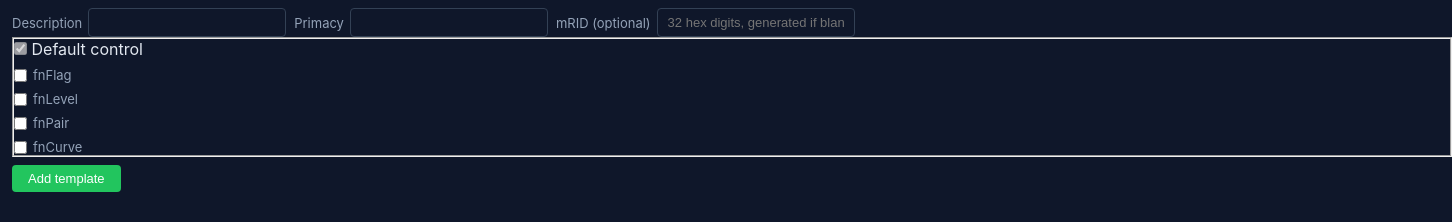
Test: DerProgramForm create › shows the value field of a function only while it is ticked
Click the checkbox with test id "control-fn-fnLevel". click: (20, 99)
box: [14,92,27,106]
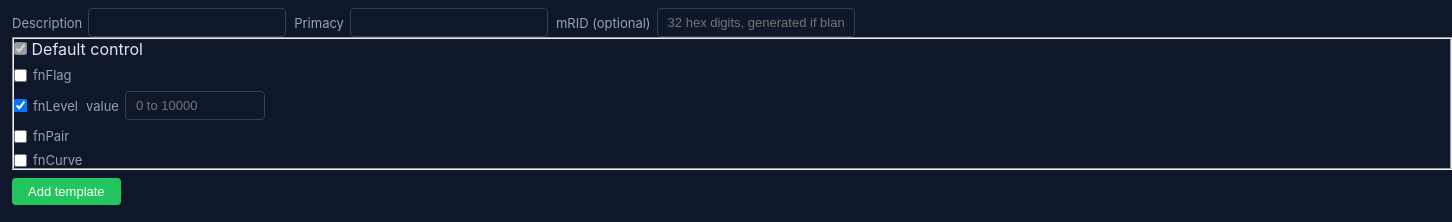
Expected: the field with test id "control-fv-fnLevel" is shown, [125,91,265,120]
Click the checkbox with test id "control-fn-fnLevel". click: (20, 106)
box: [14,99,27,112]
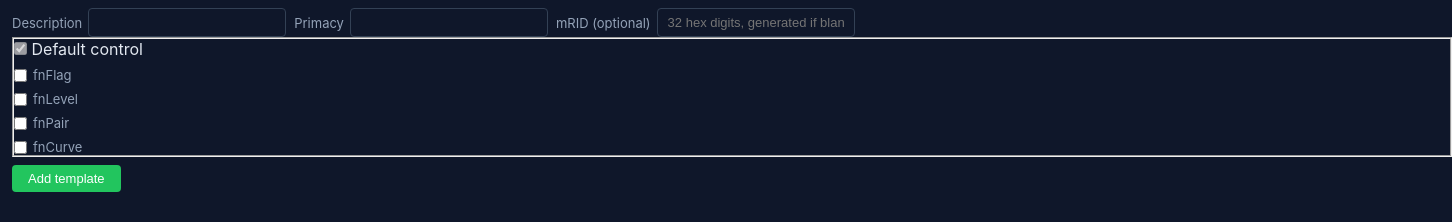
Expected: the field with test id "control-fv-fnLevel" is gone
